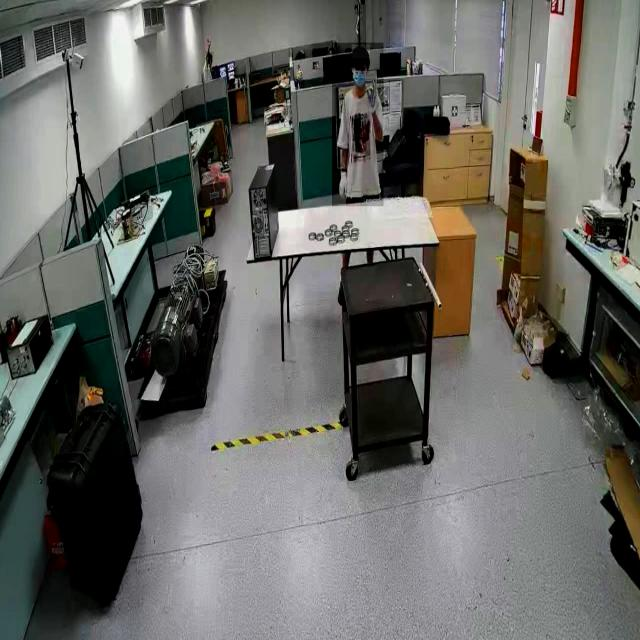face_mask: (348, 60, 368, 88)
hand_glove: (360, 80, 382, 124), (333, 171, 353, 206)
head_nohelmet: (352, 44, 370, 60), (206, 52, 214, 58)
person: (332, 43, 384, 207)
